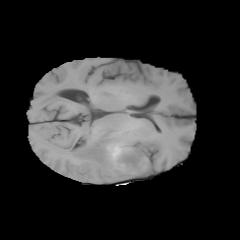glioma: (71, 129, 150, 176)
